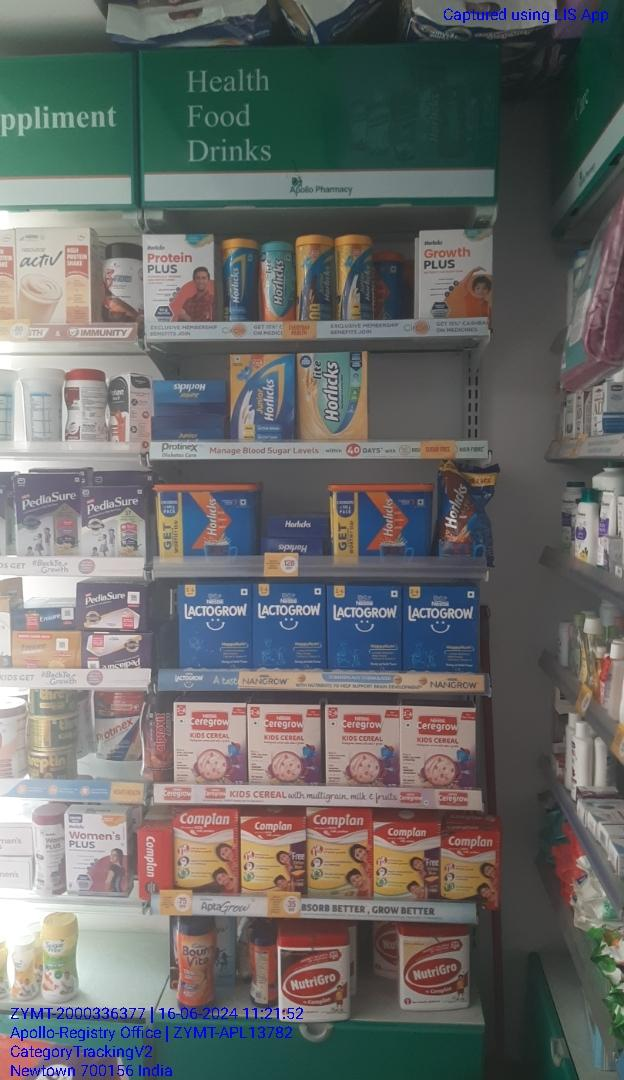BOURN_VITA_500_G_JAR: (177, 917, 217, 1015)
COMPLAN_CHOCOLATE_200_GMS_PACK: (443, 831, 498, 907)
COMPLAN_CREAMY_CLASSIC_500_G_PACK: (374, 822, 441, 902)
COMPLAN_PISTA_BADAM_500_GMS_PACK: (308, 809, 372, 896)
HORLICKS_JUNIOR_VANILLA_500_GM_JAR: (338, 236, 374, 320)
HORLICKS_LITE_REGULAR_MALT_500_GM_JAR: (259, 243, 296, 321)
HORLICK_CHOCOLATE_750_G_POUCH: (437, 459, 494, 563)
HORLICK_MALT_1_KG_CONTAINER: (333, 486, 432, 560), (157, 483, 258, 555)
